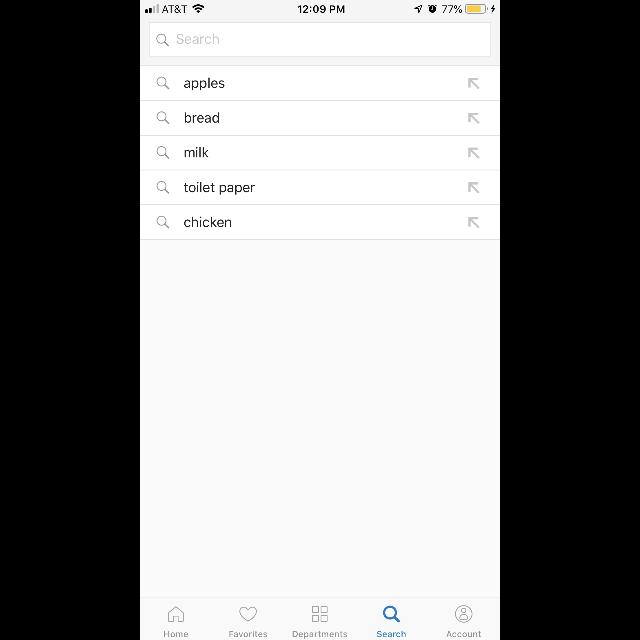icon: (382, 606, 400, 622), (456, 606, 472, 622), (312, 606, 328, 622), (240, 606, 256, 622), (168, 606, 184, 622), (156, 146, 170, 160), (156, 76, 170, 90), (156, 112, 170, 125), (156, 216, 170, 228), (156, 182, 170, 194), (156, 34, 170, 46), (468, 182, 479, 194), (468, 78, 479, 90), (468, 114, 479, 125), (468, 218, 479, 228), (468, 148, 479, 158)
input: (149, 22, 491, 56)
text: (184, 182, 256, 195), (184, 216, 232, 228), (184, 78, 224, 90), (292, 631, 348, 639), (184, 112, 220, 124), (177, 34, 219, 44), (229, 630, 267, 638), (185, 146, 209, 158), (447, 631, 481, 637), (377, 631, 405, 637), (164, 631, 188, 637)
uppertaskbar: (140, 0, 500, 14)
